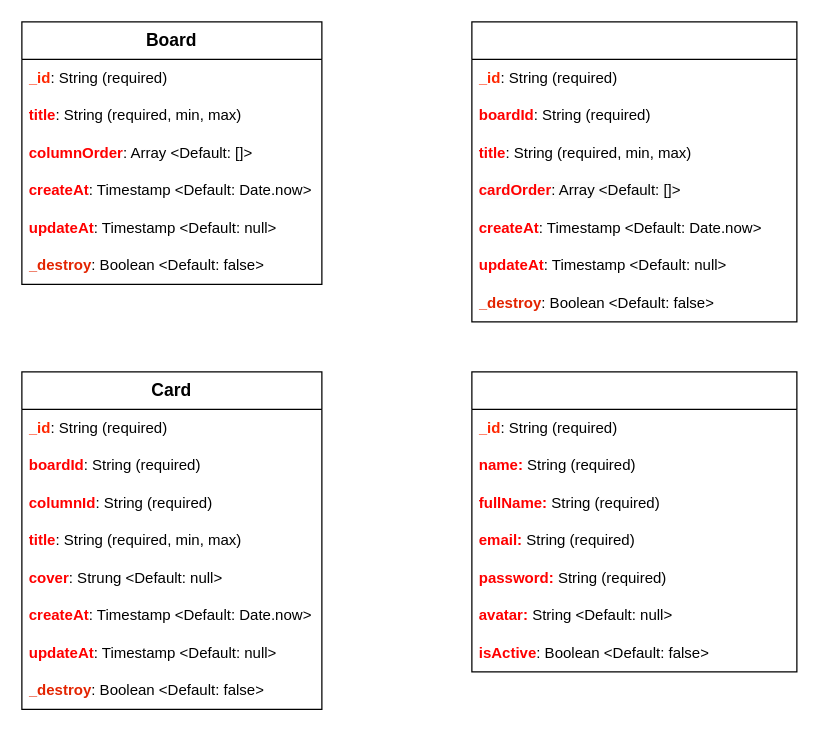
Some shapes in this 819 by 731 pixel diagram are drawn without their labels. The shapes that lost their labels are listed below. From the top down, each one's box as (x1, y1, x2, y2) in pixels, then its label:
(471, 21, 797, 322): Column
(471, 371, 797, 672): User
